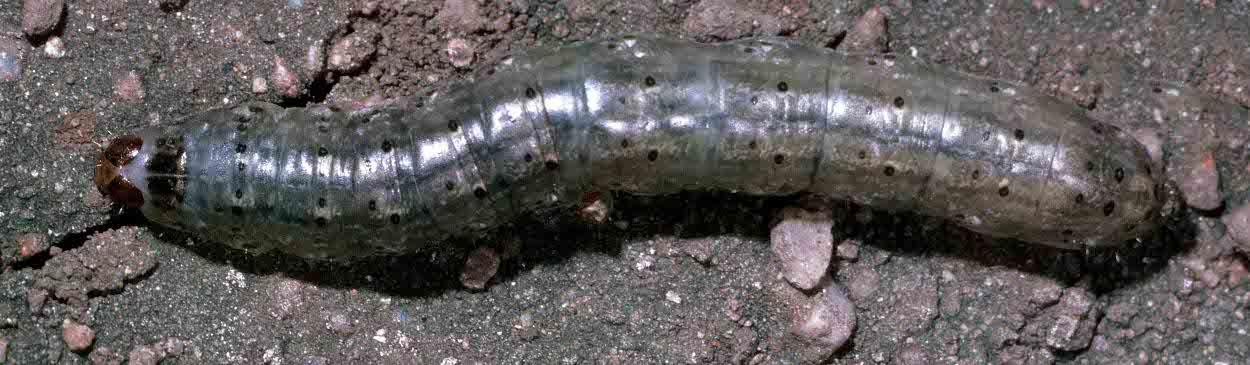caterpillars: (32, 0, 1250, 365)
